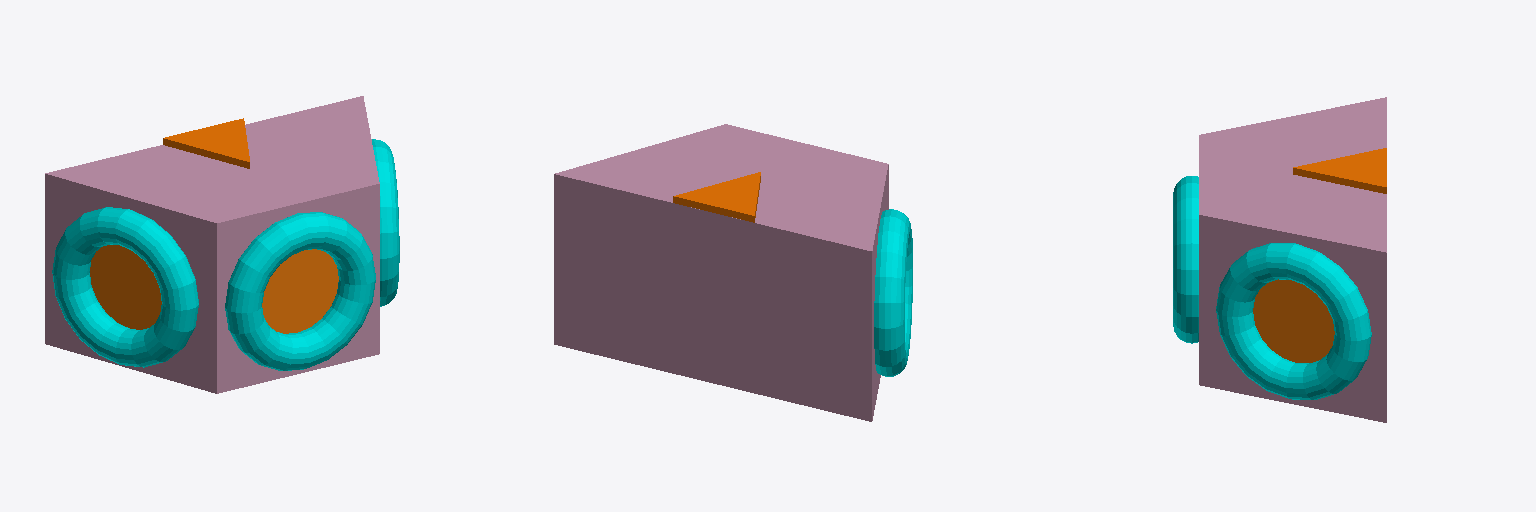
File: JordanSplitter1Final.obj
The picture shows the model from 3 angles: view 1: azimuth 30°, elevation 25°; view 2: azimuth 150°, elevation 25°; view 3: azimuth 270°, elevation 25°; orthographic projection.
Parts seen in each view (by area): view 1: pCube1, pTorus1, pTorus3, pTorus2, pCube2; view 2: pCube1, pTorus3, pCube2; view 3: pCube1, pTorus2, pTorus1, pCube2.
Part boxes in pixels (left/top/right/bottom): pCube1: left=45, top=96, right=379, bottom=393; pTorus1: left=225, top=212, right=375, bottom=370; pTorus3: left=52, top=207, right=198, bottom=367; pTorus2: left=372, top=139, right=399, bottom=306; pCube2: left=163, top=118, right=249, bottom=168; pCube1: left=554, top=124, right=888, bottom=421; pTorus3: left=874, top=209, right=912, bottom=376; pCube2: left=673, top=172, right=760, bottom=222; pCube1: left=1199, top=97, right=1386, bottom=422; pTorus2: left=1216, top=243, right=1371, bottom=399; pTorus1: left=1173, top=176, right=1198, bottom=343; pCube2: left=1293, top=148, right=1386, bottom=193.
Bounding box in the file's own units: 2.06 × 1.04 × 1.13.